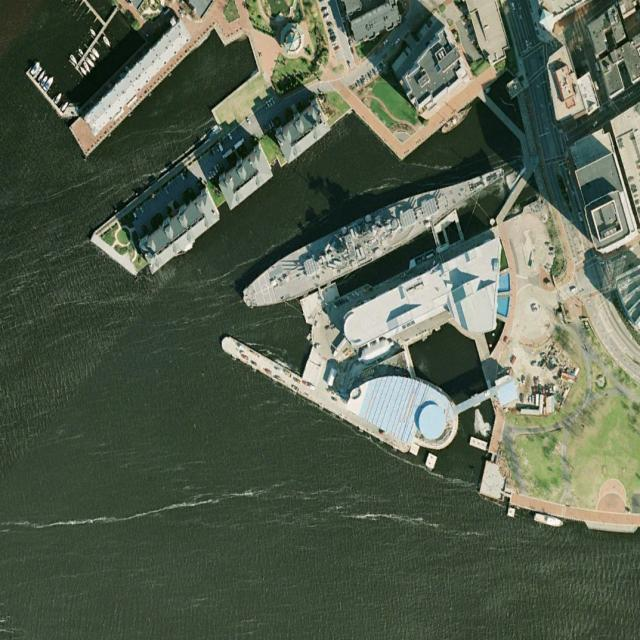Other Warship: (236, 150, 511, 322)
